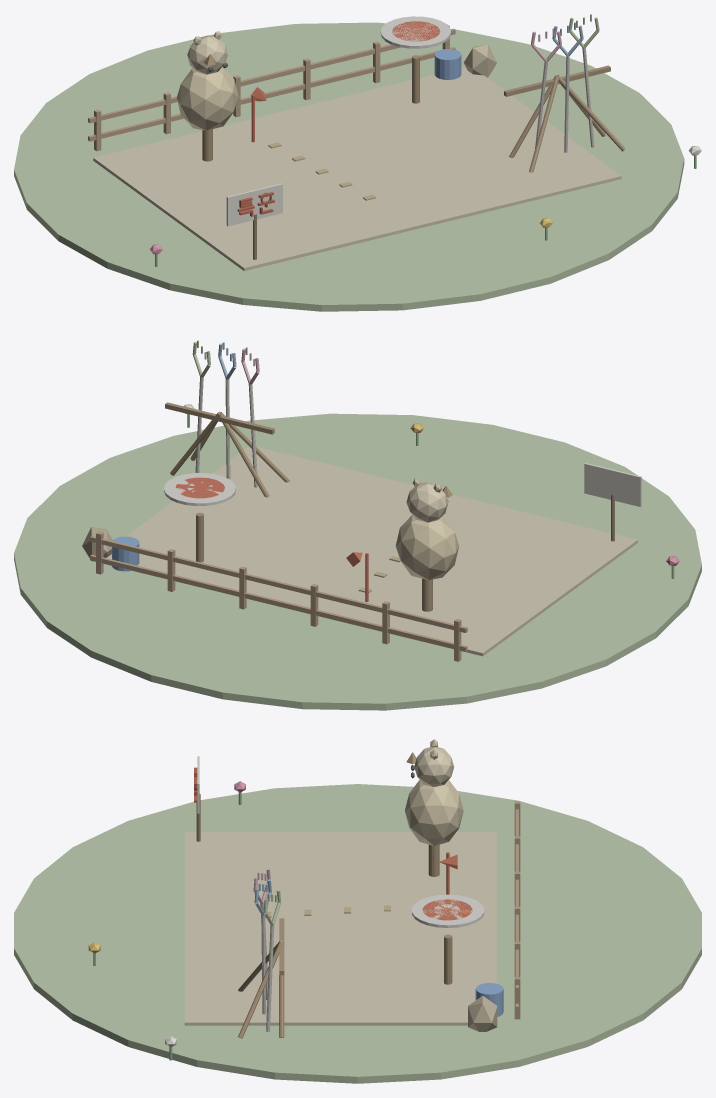
File: training.glb
The picture shows the model from 3 angles, top to bottom: view 1: azimuth 30°, elevation 25°; view 2: azimuth 150°, elevation 25°; view 3: azimuth 270°, elevation 25°; orthographic projection. The views are drawn at different scales.
Visible parts, largest first — view 1: part_10, part_16, part_09, part_15, part_05, part_21, part_22, part_14, part_13, part_17, part_01, part_11 (+1 smaller); view 2: part_10, part_16, part_09, part_15, part_05, part_22, part_21, part_17, part_14, part_13, part_01; view 3: part_10, part_16, part_15, part_05, part_21, part_09, part_17, part_13, part_14, part_11, part_01.
Boxes of the visible parts, box(x1,y1,x2,y2) form: part_10: box(14, 22, 684, 311); part_16: box(93, 67, 621, 271); part_09: box(88, 24, 455, 151); part_15: box(176, 31, 238, 130); part_05: box(202, 55, 625, 172); part_21: box(380, 16, 450, 48); part_22: box(226, 146, 701, 226); part_14: box(535, 47, 594, 152); part_13: box(250, 21, 440, 142); part_17: box(187, 35, 227, 74); part_01: box(434, 49, 461, 79); part_11: box(463, 44, 496, 77); part_10: box(14, 413, 701, 710); part_16: box(95, 446, 637, 656); part_09: box(90, 531, 467, 661); part_15: box(395, 478, 459, 579); part_05: box(165, 402, 432, 611); part_22: box(184, 404, 641, 506); part_21: box(164, 473, 235, 506); part_17: box(406, 482, 448, 522); part_14: box(195, 377, 257, 487); part_13: box(175, 477, 368, 601); part_01: box(112, 536, 139, 571); part_10: box(14, 784, 701, 1083); part_16: box(184, 832, 496, 1025); part_15: box(405, 739, 463, 845); part_05: box(238, 844, 452, 1038); part_21: box(412, 894, 483, 927); part_09: box(514, 801, 520, 1019); part_17: box(414, 746, 454, 786); part_13: box(422, 852, 472, 920); part_14: box(260, 904, 274, 1031); part_11: box(468, 995, 497, 1031); part_01: box(475, 983, 503, 1016).
Size of the model in its own units: 20 by 4.57 by 19.85.
